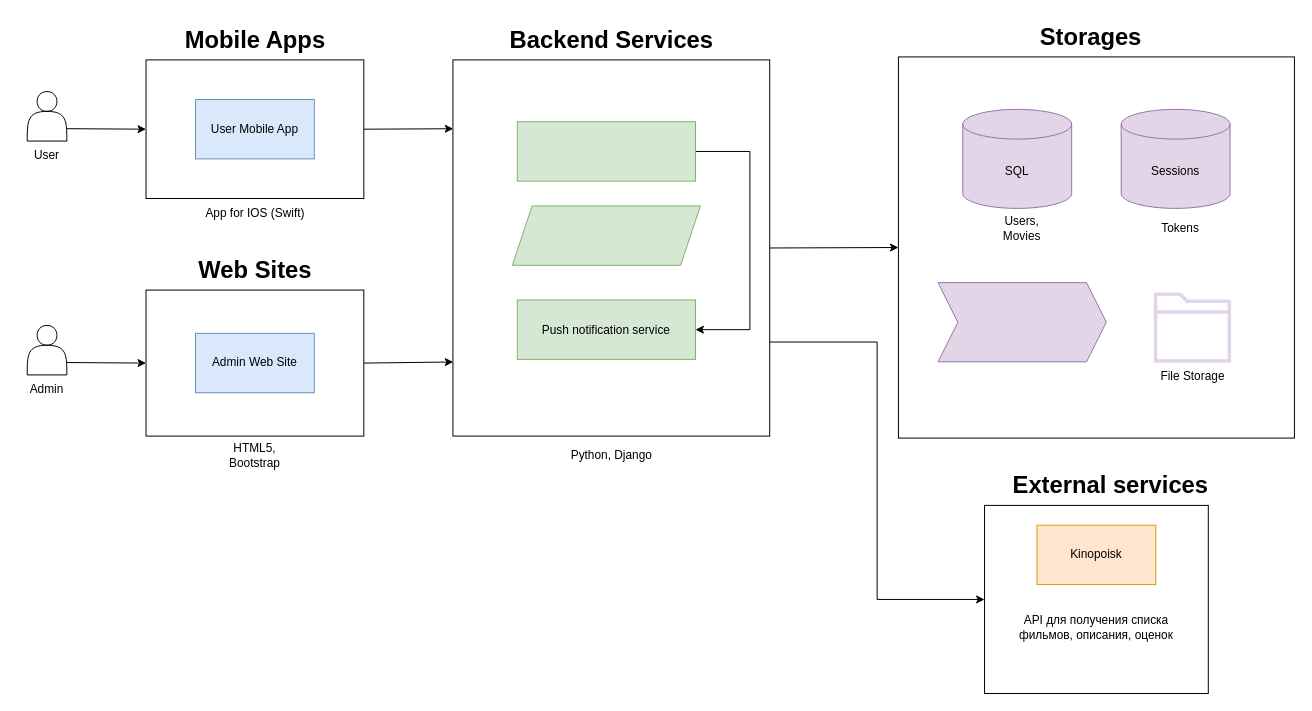
This 1312x711 diagram has some shape labels left out. Here are the shapes that lost their labels. From the top down, the centre of each, then its label:
At (x=605, y=151): "Authentication REST API".
At (x=605, y=235): "User Backend".
At (x=1021, y=322): "Message Broker".
